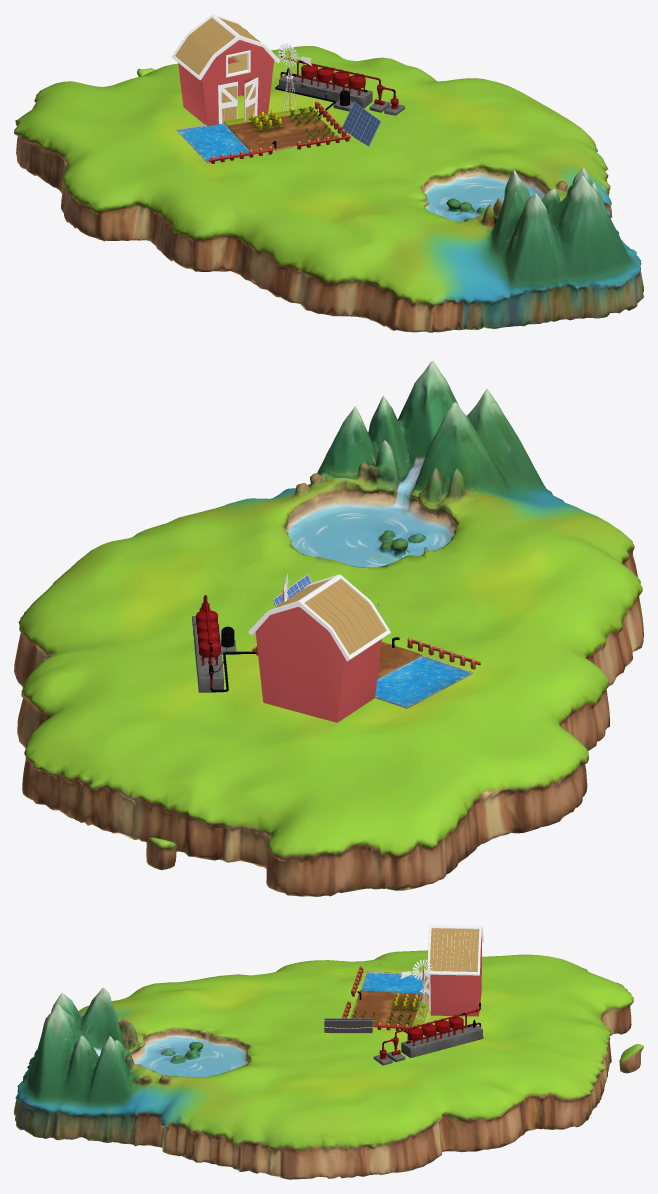
Rendered from agroambiental.glb.
3 views of the same model, one above another, from view 1: azimuth 30°, elevation 25°; view 2: azimuth 150°, elevation 25°; view 3: azimuth 270°, elevation 25° (orthographic). The views are drawn at different scales.
Visible parts, largest first — view 1: Mesh_0.014, Mesh_0, 3_3_Mat.2_0, Mesh1.0, 1_3_Mat_0, 2_3_Mat.1_0, Plane_003; view 2: Mesh_0.014, 3_3_Mat.2_0, Mesh_0, 1_3_Mat_0, Mesh1.0, 2_3_Mat.1_0; view 3: Mesh_0.014, Mesh_0, Mesh1.0, 1_3_Mat_0, 3_3_Mat.2_0, 2_3_Mat.1_0, Plane_003.
Part boxes in pixels (x1=…): Mesh_0.014: x1=14, y1=46, x2=643, y2=332; Mesh_0: x1=176, y1=101, x2=350, y2=163; 3_3_Mat.2_0: x1=178, y1=40, x2=274, y2=126; Mesh1.0: x1=272, y1=50, x2=404, y2=150; 1_3_Mat_0: x1=175, y1=17, x2=260, y2=122; 2_3_Mat.1_0: x1=171, y1=14, x2=280, y2=124; Plane_003: x1=342, y1=102, x2=381, y2=146; Mesh_0.014: x1=14, y1=361, x2=643, y2=896; 3_3_Mat.2_0: x1=255, y1=607, x2=381, y2=722; Mesh_0: x1=252, y1=637, x2=480, y2=708; 1_3_Mat_0: x1=276, y1=579, x2=386, y2=654; Mesh1.0: x1=192, y1=595, x2=399, y2=692; 2_3_Mat.1_0: x1=248, y1=574, x2=390, y2=661; Mesh_0.014: x1=14, y1=950, x2=643, y2=1179; Mesh_0: x1=342, y1=966, x2=428, y2=1031; Mesh1.0: x1=357, y1=991, x2=483, y2=1065; 1_3_Mat_0: x1=424, y1=928, x2=479, y2=1005; 3_3_Mat.2_0: x1=430, y1=929, x2=481, y2=1016; 2_3_Mat.1_0: x1=423, y1=925, x2=483, y2=1010; Plane_003: x1=324, y1=1018, x2=372, y2=1033.
Bounding box in the file's own units: 34.41 × 10.65 × 46.25.
Materials: 11 (5 with a texture image).
